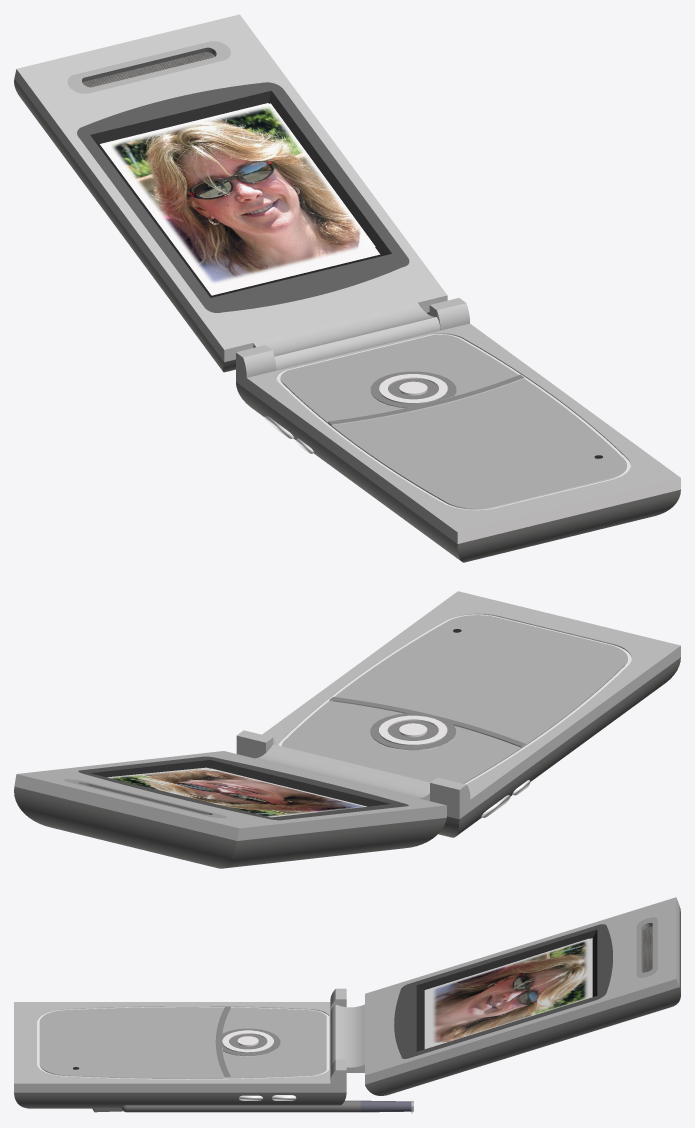
The model's file is Cellphone2.obj.
3 renders of one model, top to bottom at view 1: azimuth 30°, elevation 25°; view 2: azimuth 150°, elevation 25°; view 3: azimuth 270°, elevation 25°, orthographic. The views are drawn at different scales.
Parts seen in each view (by area): view 1: Mesh7 Group1 Model, Mesh28 Model, Mesh10 Group1 Model, Mesh9 Group1 Model; view 2: Mesh7 Group1 Model, Mesh28 Model, Mesh10 Group1 Model, Mesh9 Group1 Model; view 3: Mesh7 Group1 Model, Mesh28 Model, Mesh1 Group2 Group1 Model, Mesh10 Group1 Model, Mesh9 Group1 Model, Mesh8 Group1 Model.
Part boxes in pixels (x1,y1,x2,y2): Mesh7 Group1 Model: (14,14,680,562); Mesh28 Model: (106,103,375,286); Mesh10 Group1 Model: (370,371,456,408); Mesh9 Group1 Model: (379,374,447,403); Mesh7 Group1 Model: (14,591,680,868); Mesh28 Model: (107,767,366,817); Mesh10 Group1 Model: (370,713,455,750); Mesh9 Group1 Model: (379,715,447,745); Mesh7 Group1 Model: (14,897,680,1112); Mesh28 Model: (431,938,589,1046); Mesh1 Group2 Group1 Model: (127,1100,360,1112); Mesh10 Group1 Model: (221,1028,280,1056); Mesh9 Group1 Model: (222,1030,273,1052); Mesh8 Group1 Model: (360,1099,413,1113).
Size of the model in its own units: 212 by 175 by 727.
19 materials, 3 textured.
